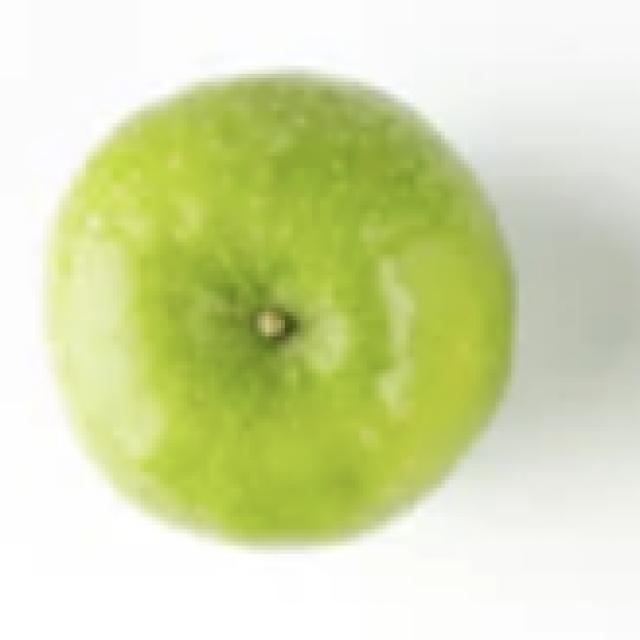Fresh Apple: (78, 63, 527, 550)
